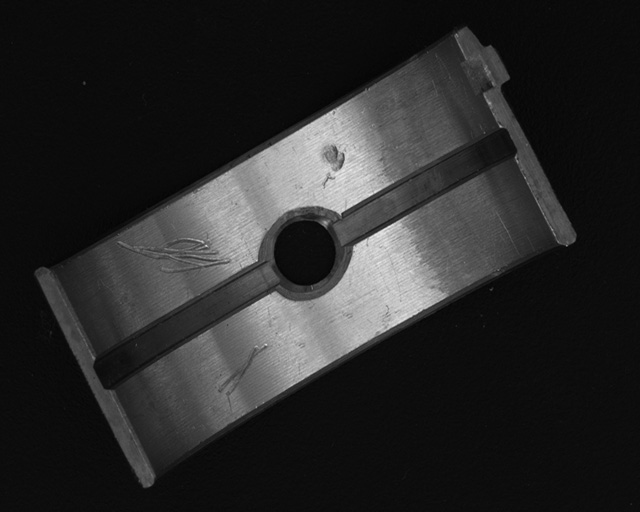bruise: (320, 143, 346, 190)
gap: (96, 264, 275, 387), (340, 129, 514, 246)
hole: (261, 211, 349, 294)
nick: (116, 236, 232, 275), (217, 343, 267, 396)
